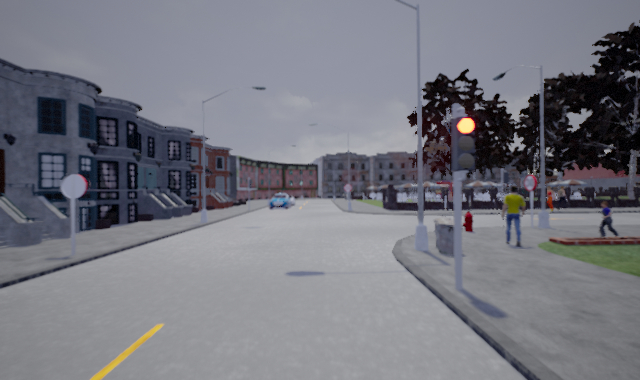pedestrian: (498, 184, 527, 247), (596, 197, 619, 238)
traffic_light: (448, 116, 478, 172)
traffic_sign: (523, 173, 538, 191), (342, 182, 354, 193)
vehicle: (268, 192, 292, 210)
